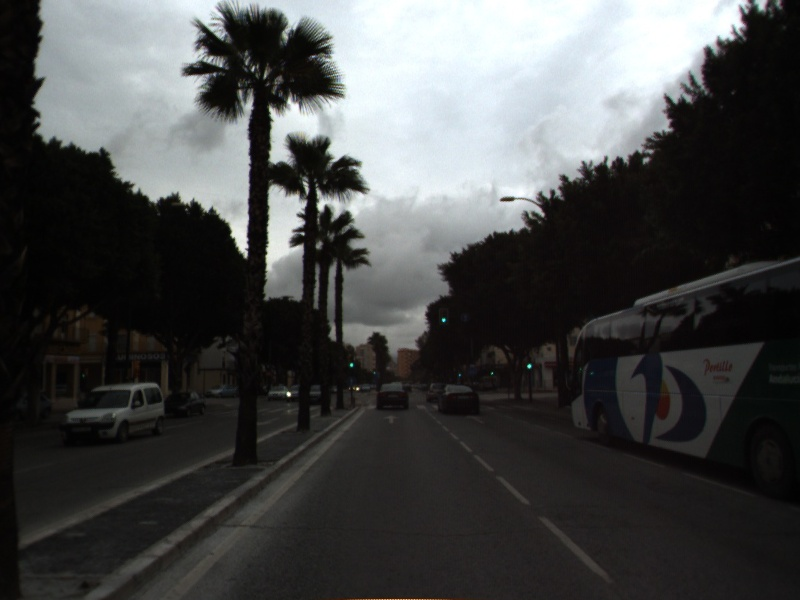STRAIGHT: (463, 412, 488, 426), (381, 413, 402, 426)
